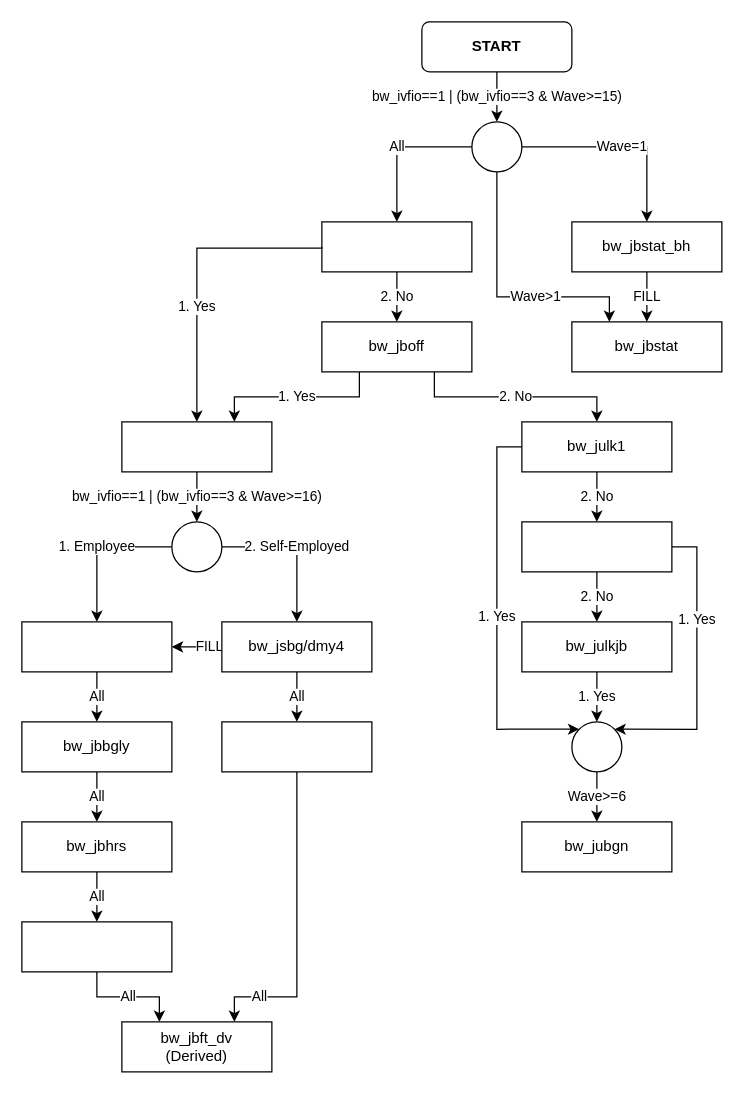
This 744x1094 diagram has some shape labels left out. Here are the shapes that lost their labels. From the top down, the box of each, then its label:
(321, 221, 472, 272): bw_jbhas
(121, 421, 272, 472): bw_jbsemp
(521, 521, 672, 572): bw_julk4
(21, 621, 172, 672): bw_jbbg/dmy
(221, 721, 372, 772): bw_jshrs
(21, 921, 172, 972): bw_jbot
